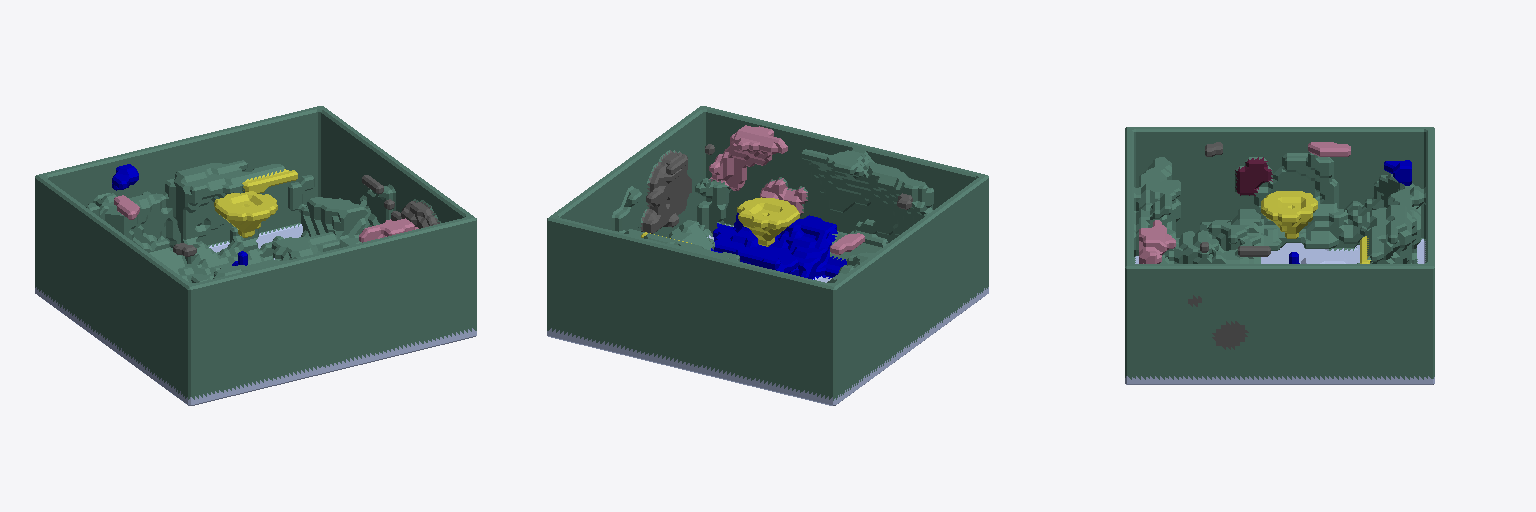
The picture shows the model from 3 angles: view 1: azimuth 30°, elevation 25°; view 2: azimuth 150°, elevation 25°; view 3: azimuth 270°, elevation 25°; orthographic projection.
Parts seen in each view (by area): view 1: Input_prediction_mesh; view 2: Input_prediction_mesh; view 3: Input_prediction_mesh.
Part boxes in pixels (x1,y1,x2,y2): Input_prediction_mesh: (35,106,476,405); Input_prediction_mesh: (547,106,988,405); Input_prediction_mesh: (1125,127,1434,384).
Size of the model in its own units: 5.68 by 2.24 by 5.28.